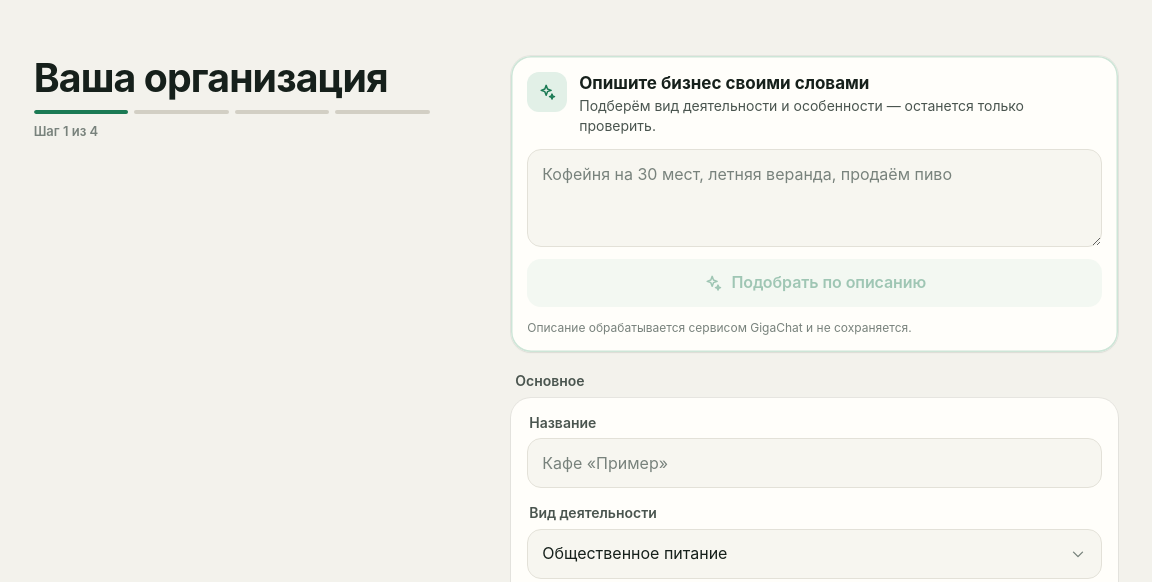
Scenario: T-FE-LLM: подбор профиля по описанию (FR-22) › сообщает, когда по описанию ничего не подобрано
Step 1. Type "что-то непонятное" into the text box named "Описание бизнеса" → (815, 198), box [528,150,1101,246]
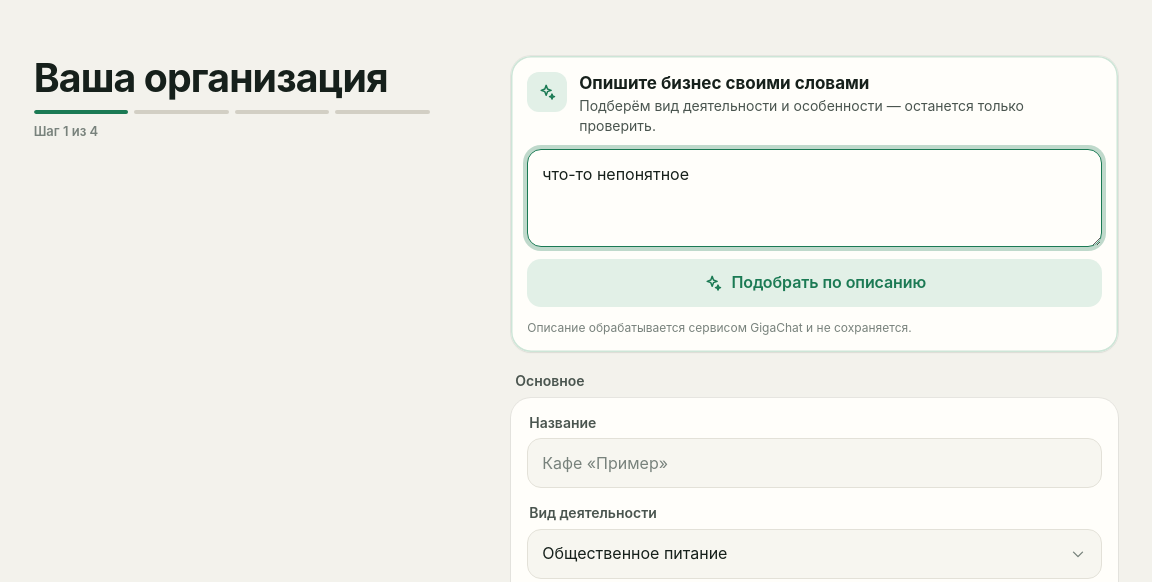
Step 2. Click the button "Подобрать по описанию" → (815, 283), box [527,259,1102,307]
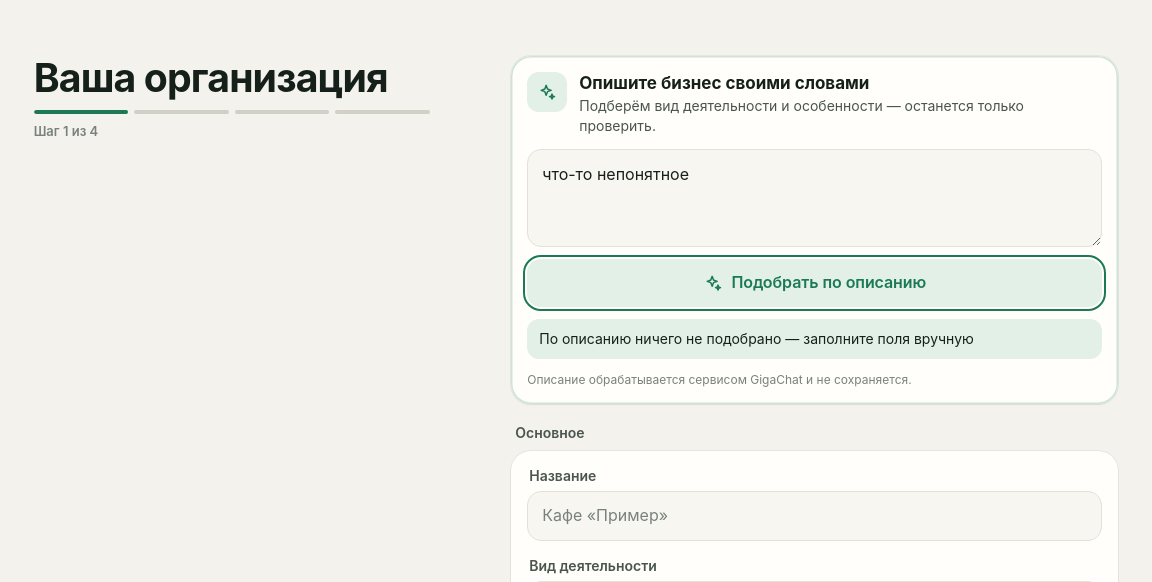
Now the text "По описанию ничего не подобрано — заполните поля вручную" is shown, box [527,319,1102,359]
